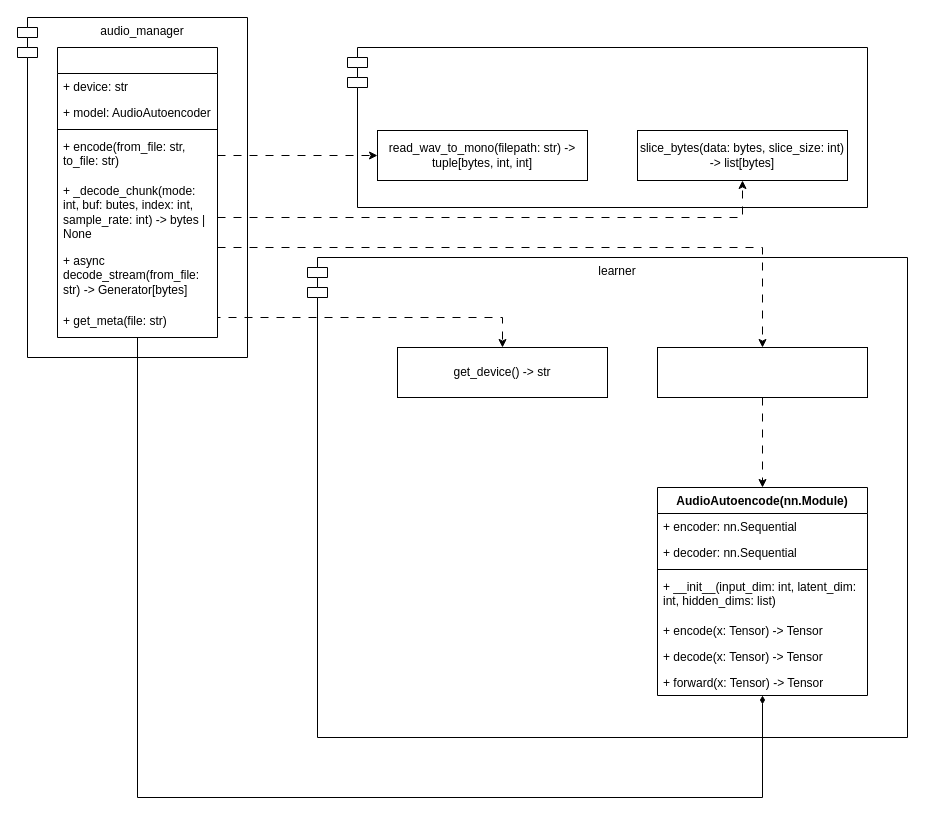
The diagram is 925 pixels wide and 823 high, and some of its shapes have lost their labels. The box of each missing label's shape, as (x1, y1, x2, y2) in pixels:
AudioManager: (56, 46, 218, 338)
encode_audio: (346, 46, 868, 208)
load_model(path: str, device: str) -> AudioAutoencoder: (656, 346, 868, 398)
